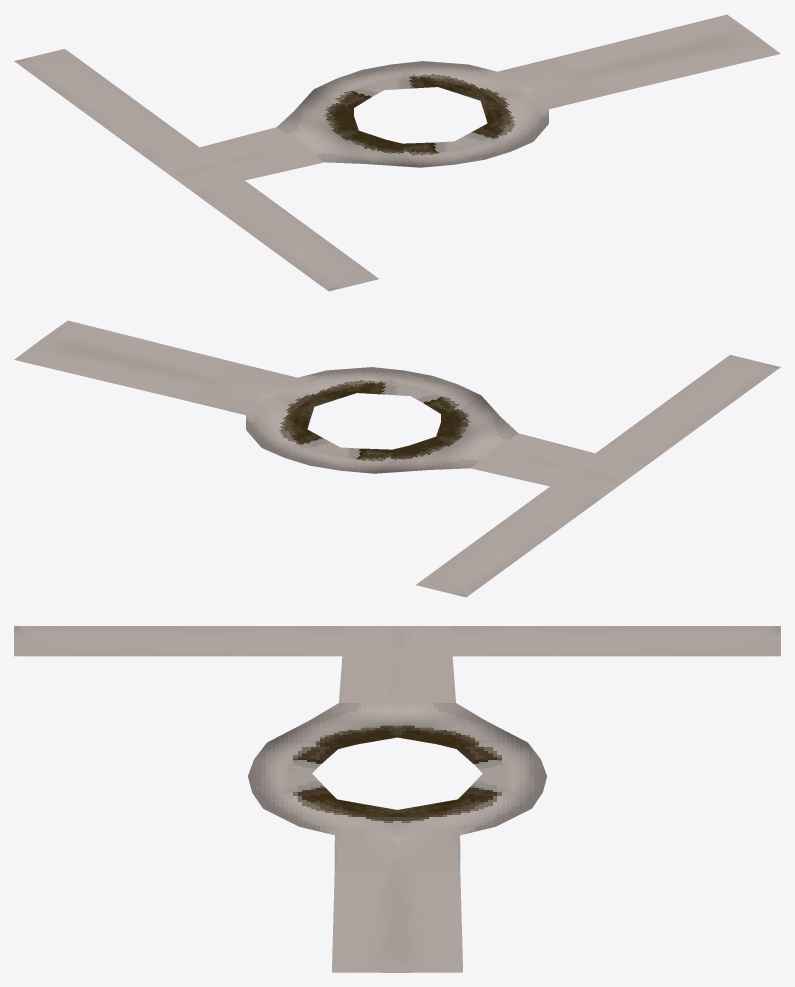
File: pathWalk.glb
The picture shows the model from 3 angles, top to bottom: view 1: azimuth 30°, elevation 25°; view 2: azimuth 150°, elevation 25°; view 3: azimuth 270°, elevation 25°; orthographic projection. The views are drawn at different scales.
Parts seen in each view (by area): view 1: PathWalk; view 2: PathWalk; view 3: PathWalk.
Boxes of the visible parts, x1,y1,x2,y2 form: PathWalk: (14,14,780,291); PathWalk: (14,320,780,597); PathWalk: (14,626,780,972).
Bounding box in the file's own units: 363 × 0.184 × 339.
1 material, 1 textured.
